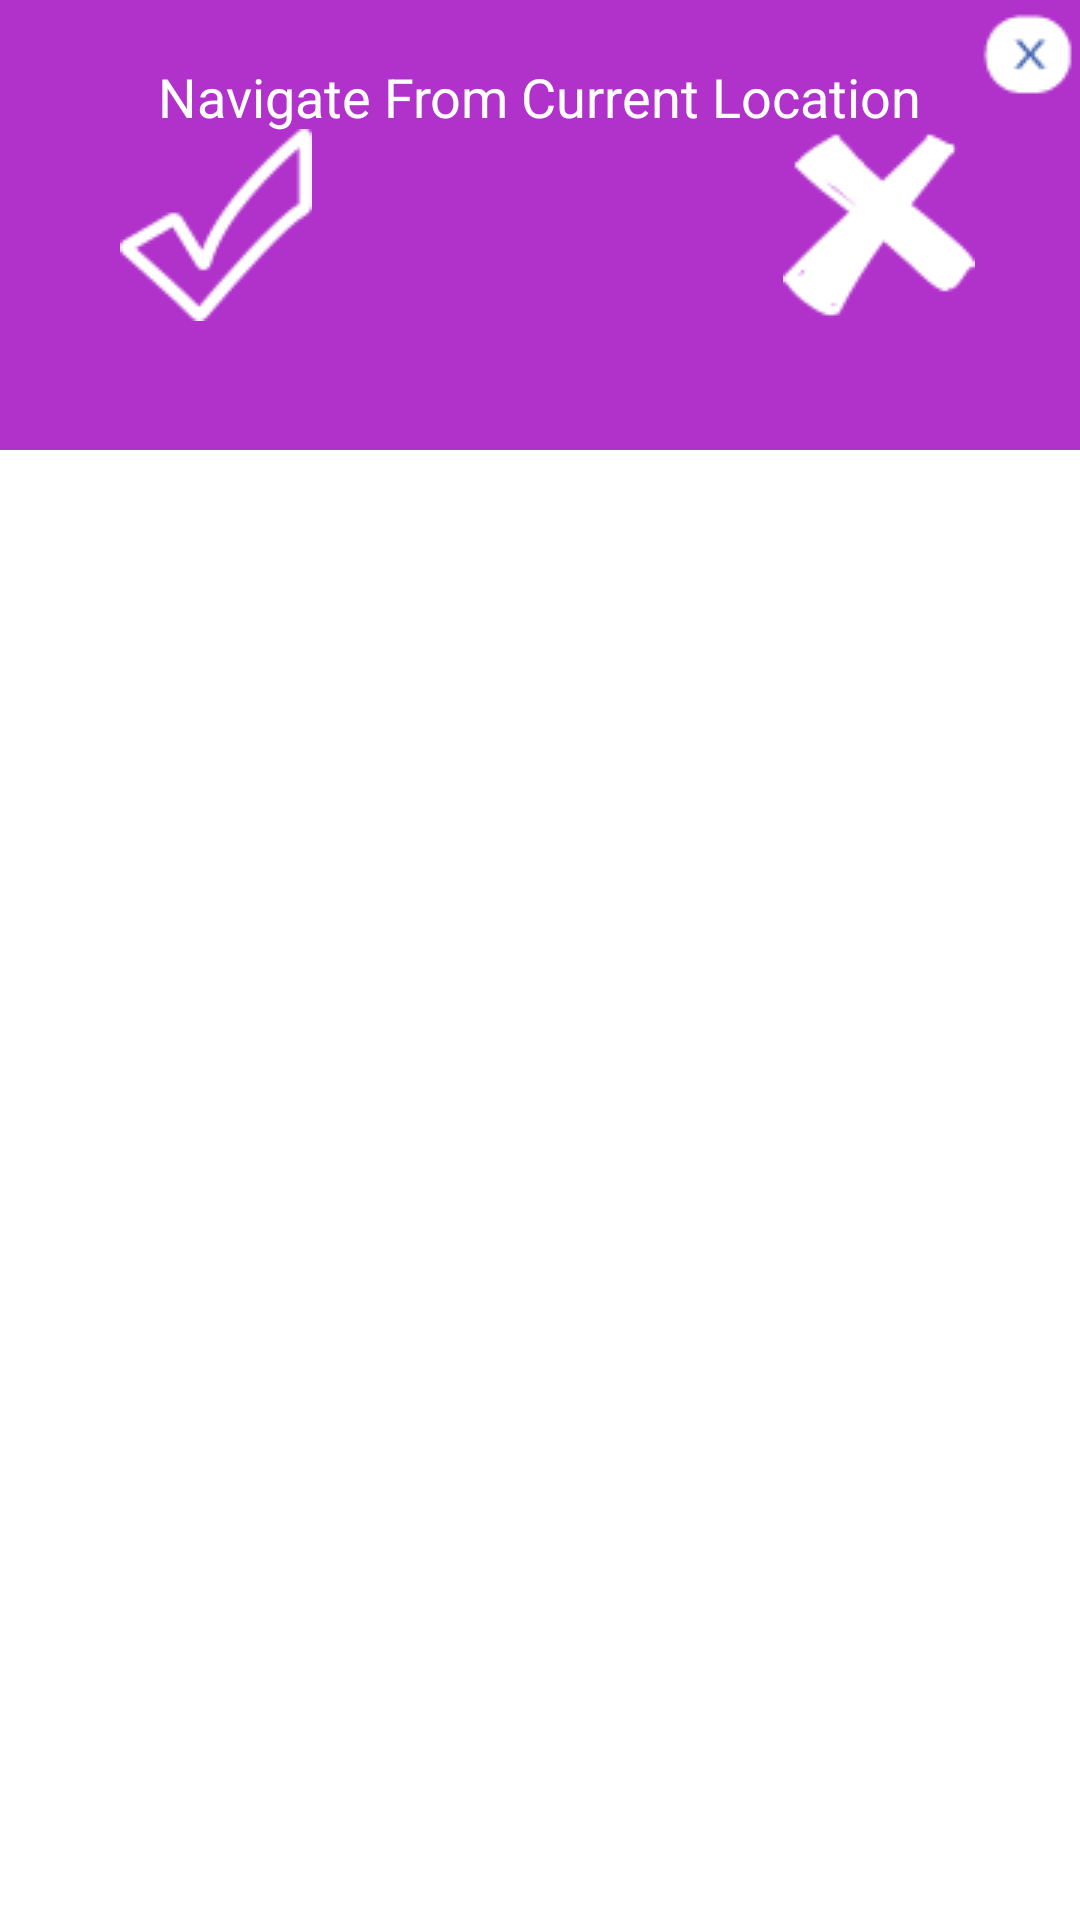

Icons on this 1080×1920 Android screen, each with the point to tap as [x,y]:
close: [1027,54]
